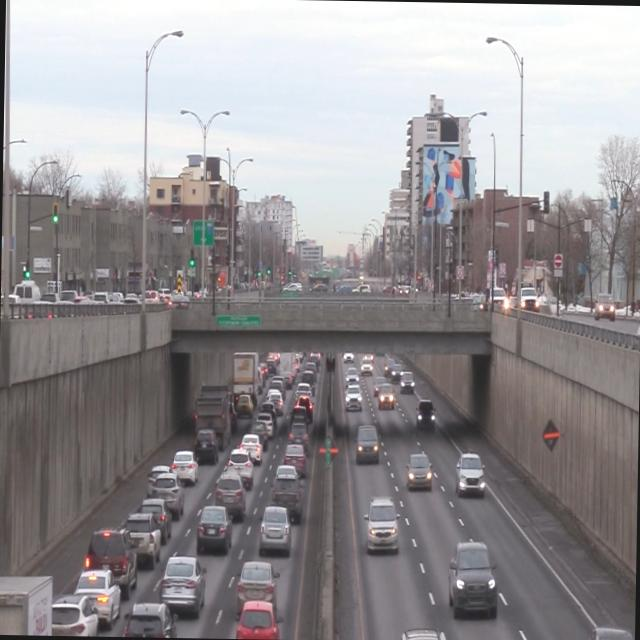Vehicle: (447, 540, 497, 616), (158, 556, 206, 614), (234, 560, 280, 619), (86, 528, 132, 584), (74, 567, 120, 621), (362, 494, 398, 556), (121, 600, 179, 638), (48, 592, 96, 636), (194, 504, 231, 554), (234, 604, 284, 640), (126, 512, 159, 566), (214, 471, 247, 517), (258, 505, 288, 553), (455, 452, 484, 496), (404, 452, 432, 492), (353, 424, 378, 465), (414, 399, 436, 431)
